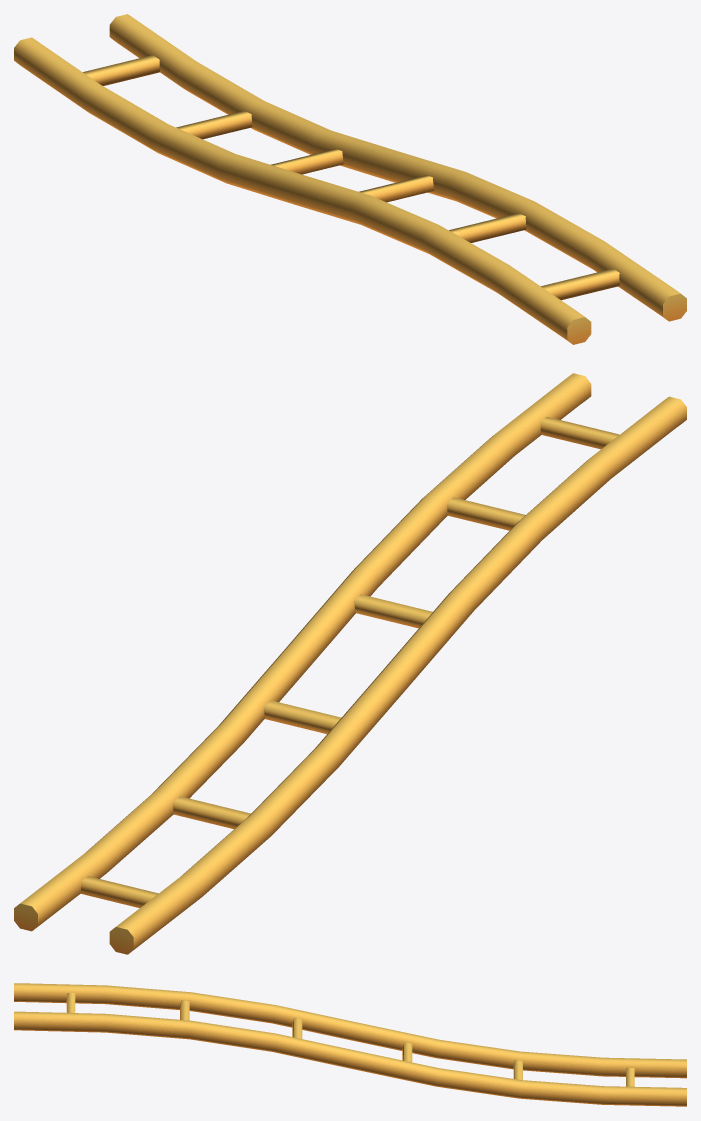
Rendered from mouse-hill-half.glb.
3 views of the same model, one above another, from view 1: azimuth 30°, elevation 25°; view 2: azimuth 150°, elevation 25°; view 3: azimuth 270°, elevation 25° (orthographic). The views are drawn at different scales.
Visible parts, largest first — view 1: coaster-mouse-straight-hill-complete-half; view 2: coaster-mouse-straight-hill-complete-half; view 3: coaster-mouse-straight-hill-complete-half.
Boxes of the visible parts, bbox=[...] form: coaster-mouse-straight-hill-complete-half: bbox=[14, 14, 686, 344]; coaster-mouse-straight-hill-complete-half: bbox=[14, 373, 686, 954]; coaster-mouse-straight-hill-complete-half: bbox=[14, 983, 686, 1106].
Bounding box in the file's own units: 0.5 × 0.6001 × 4.
1 material, 1 textured.
